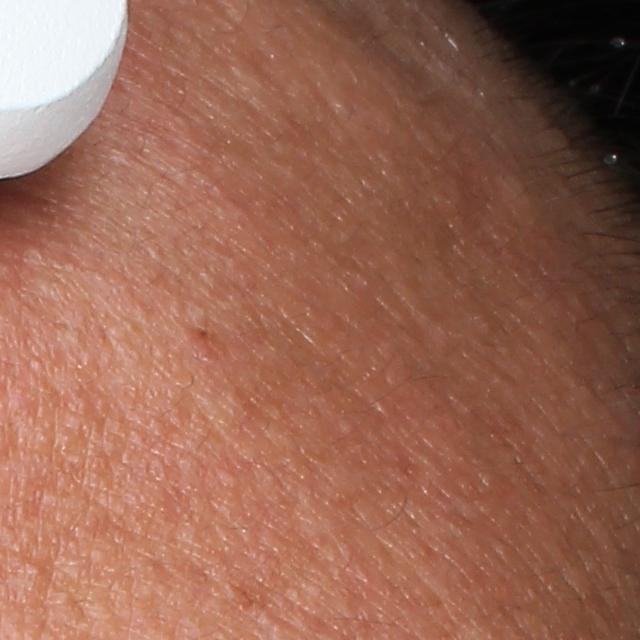comedo: (20, 561, 44, 578)
